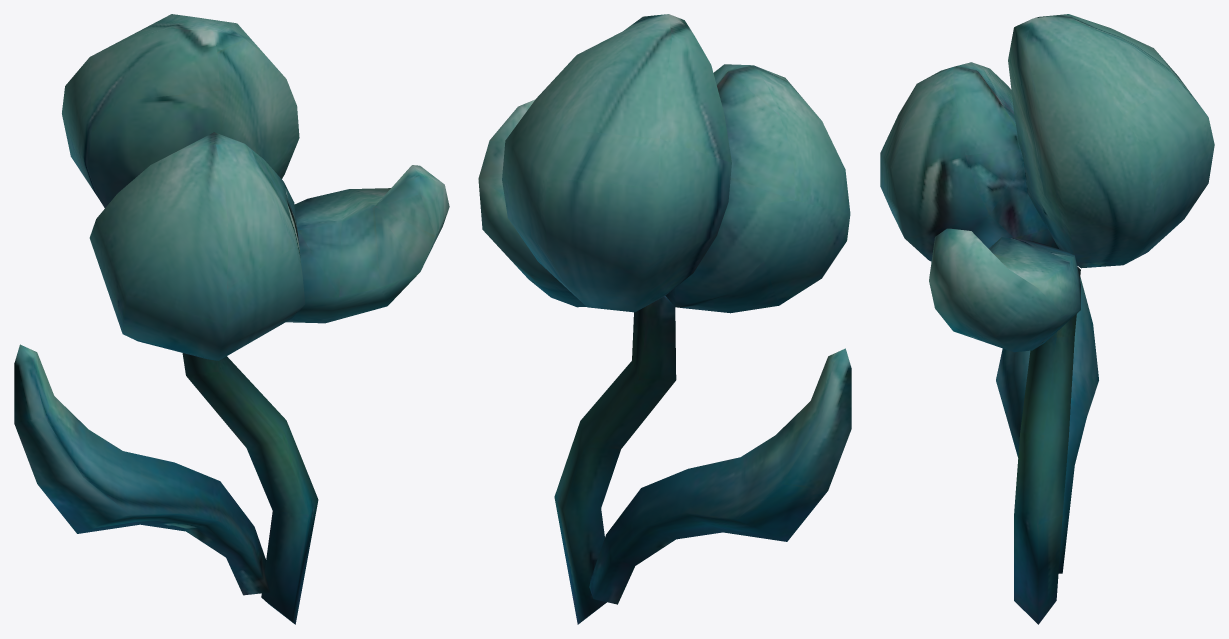
File: Plant05.glb
3 renders of one model, left to right at view 1: azimuth 30°, elevation 25°; view 2: azimuth 150°, elevation 25°; view 3: azimuth 270°, elevation 25°, orthographic. The views are drawn at different scales.
Visible parts, largest first — view 1: Plants.005; view 2: Plants.005; view 3: Plants.005.
Boxes of the visible parts, x1=… form: Plants.005: x1=14, y1=14, x2=449, y2=624; Plants.005: x1=478, y1=14, x2=851, y2=624; Plants.005: x1=880, y1=14, x2=1214, y2=624.
Size of the model in its own units: 0.8355 by 1.27 by 0.6758.
1 material, 1 textured.
